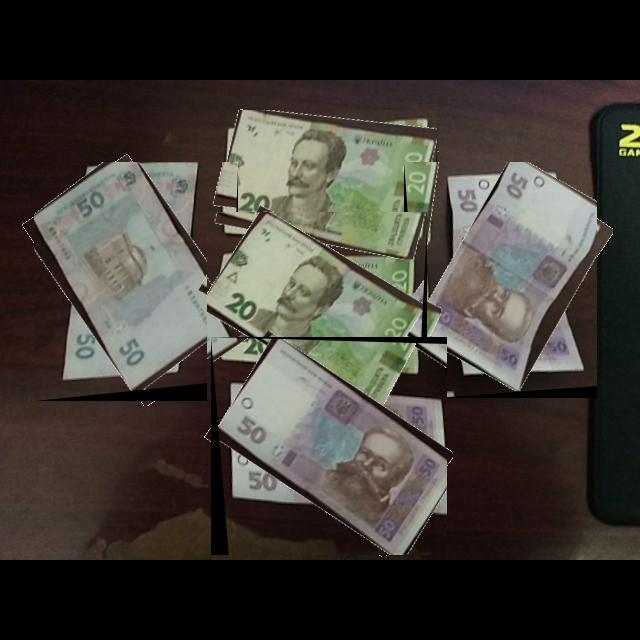20uah: (207, 212, 424, 406), (218, 110, 438, 249)
50uah: (217, 339, 448, 556), (34, 162, 235, 394), (414, 162, 598, 393)
